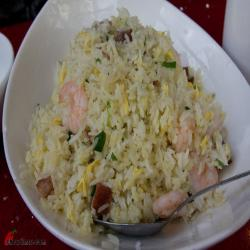rice: (65, 61, 206, 218)
